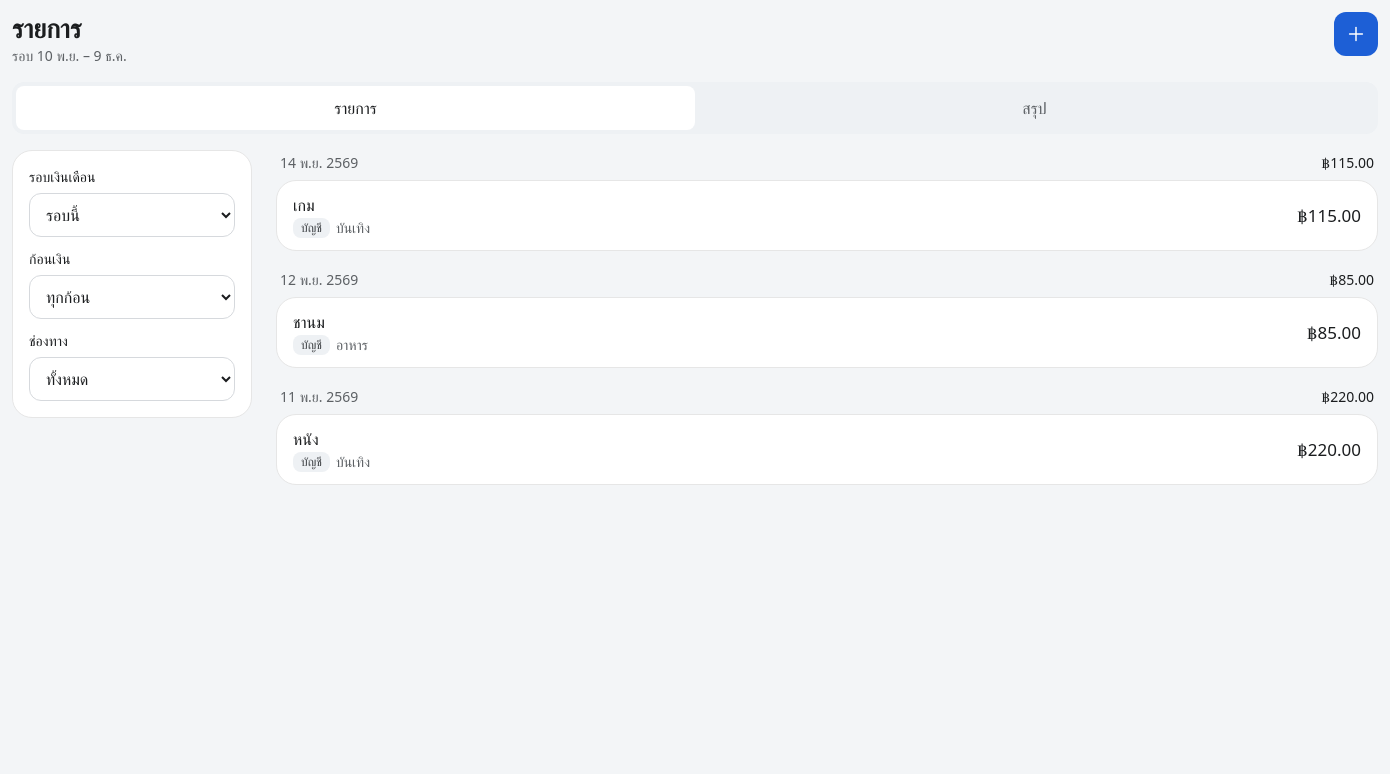
/entries summary tab › switches between รายการ and สรุป via top SegmentedControl and syncs ?view=summary in URL
Check: the text "หนัง" is shown, box [293,428,319,450]
Step 1. Click the tab "สรุป" → (1034, 108), box [695,86,1374,130]
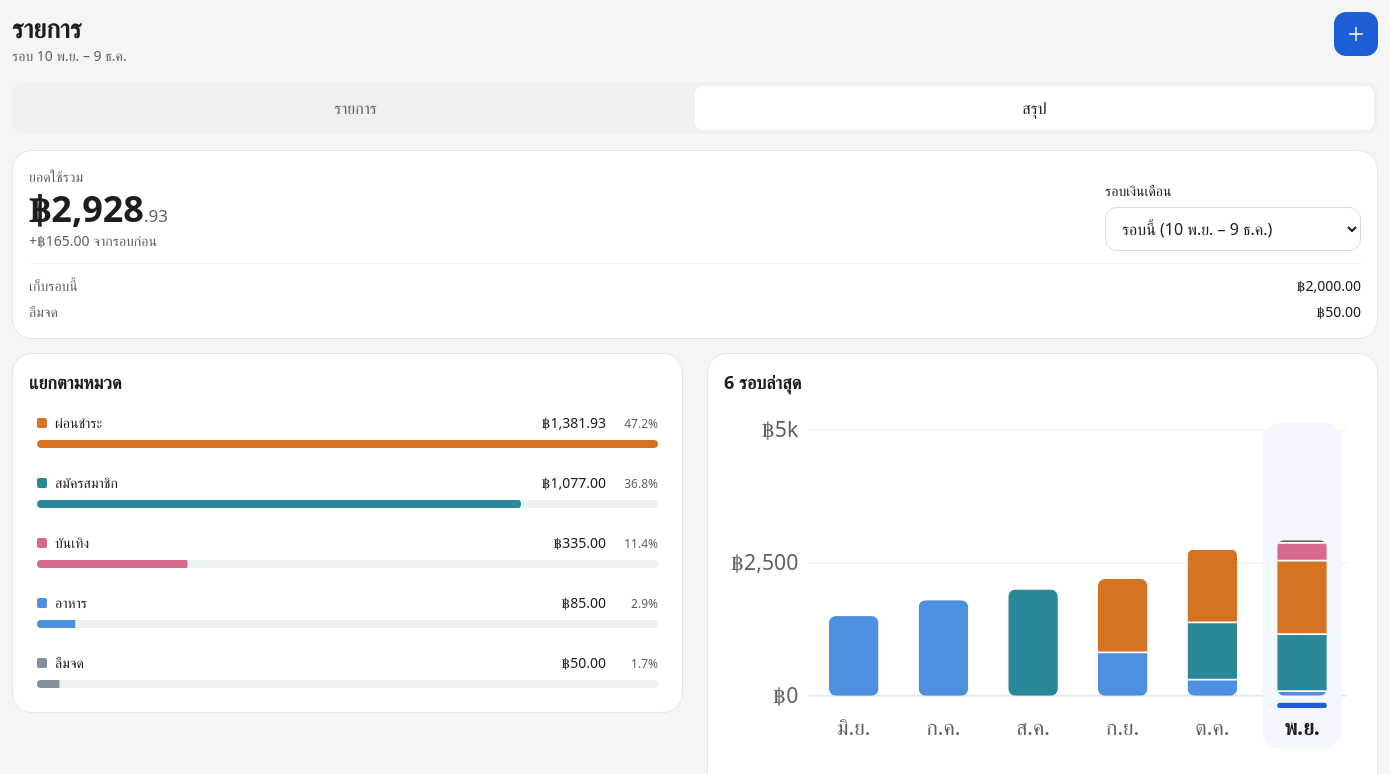
Check: the element with test id "summary-total" reads "฿2,928.93", box [29,189,168,229]
Check: the text "+฿165.00 จากรอบก่อน" is shown, box [29,231,168,251]
Check: the text "เก็บรอบนี้" is shown, box [29,276,78,296]
